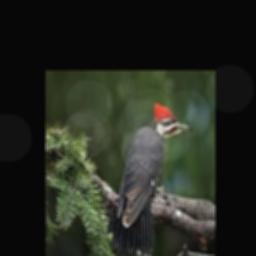Woodpecker: (107, 100, 191, 256)
